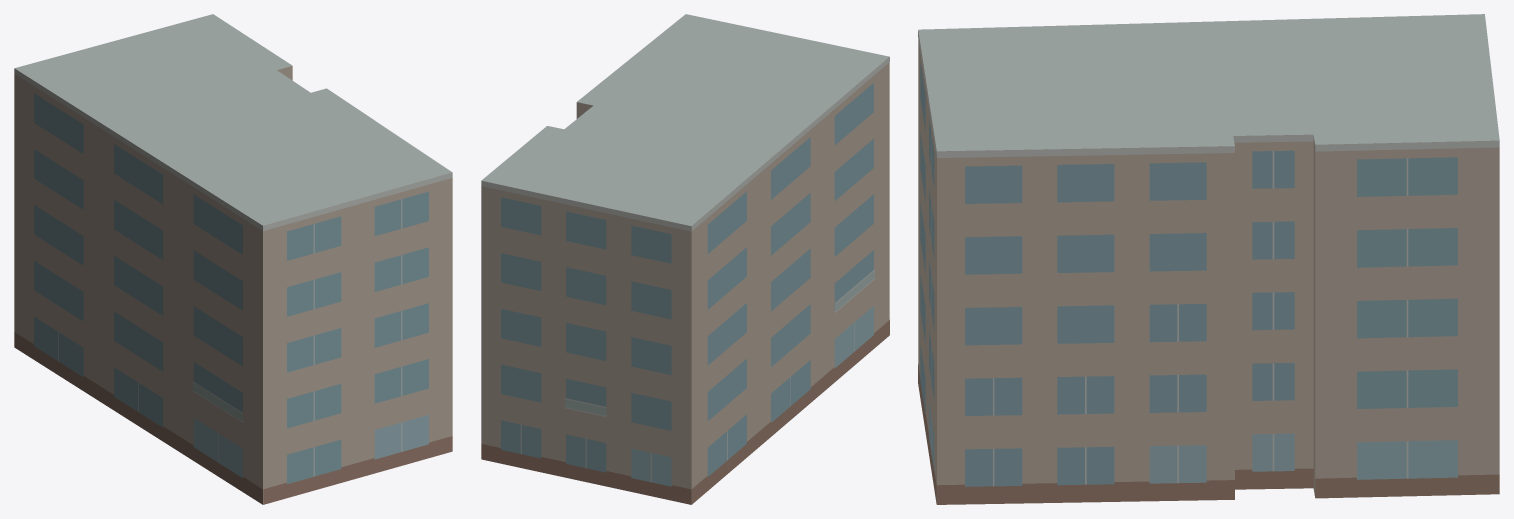
The model's file is survey-upis-32701700.glb.
3 views of the same model, side by side, from view 1: azimuth 30°, elevation 25°; view 2: azimuth 150°, elevation 25°; view 3: azimuth 270°, elevation 25° (orthographic). The views are drawn at different scales.
Parts seen in each view (by area): view 1: survey-upis-32701700.tmp; view 2: survey-upis-32701700.tmp; view 3: survey-upis-32701700.tmp.
Boxes of the visible parts, box(x1,y1,x2,y2) form: survey-upis-32701700.tmp: box(14, 14, 452, 504); survey-upis-32701700.tmp: box(481, 14, 889, 504); survey-upis-32701700.tmp: box(918, 14, 1499, 504).
Size of the model in its own units: 10.58 by 12.7 by 18.94.
